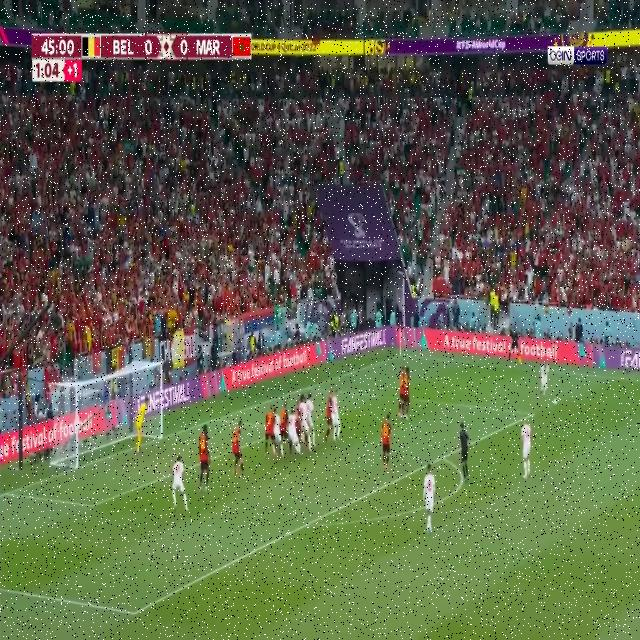Ball: (552, 396, 559, 408)
GoalKeeper: (136, 394, 152, 455)
Referee: (456, 420, 473, 485), (509, 322, 522, 368)
TEAM 1: (199, 423, 210, 495), (232, 416, 244, 476), (381, 413, 393, 468), (396, 367, 406, 420), (325, 391, 333, 447), (405, 364, 413, 418), (266, 404, 274, 450), (280, 402, 290, 438), (294, 400, 302, 427)
TEAM 2: (172, 452, 188, 520), (423, 460, 437, 532), (522, 416, 532, 480), (333, 387, 342, 444), (308, 393, 318, 442), (302, 394, 309, 451), (540, 356, 550, 394), (274, 403, 281, 453), (290, 409, 298, 452)
